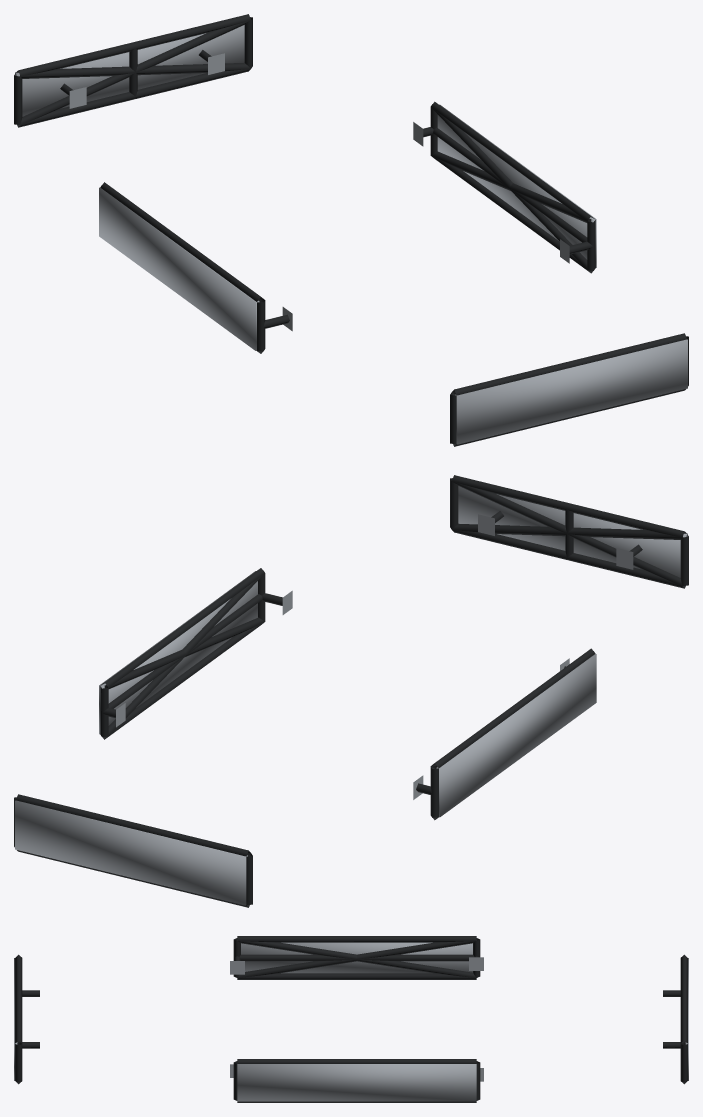
The model's file is hayase_granito_protecao.glb.
The picture shows the model from 3 angles, top to bottom: view 1: azimuth 30°, elevation 25°; view 2: azimuth 150°, elevation 25°; view 3: azimuth 270°, elevation 25°; orthographic projection. The views are drawn at different scales.
Visible parts, largest first — view 1: Protection_front_Level3_Details, Protection_left_Level3_Details, Protection_rear_Level1_Details, Protection_rear_Level3_Details, Protection_right_Level1_Details, Protection_rear_Level2_Details, Protection_right_Level2_Details, Protection_right_Level3_Details, Protection_front_Level1_Details, Protection_left_Level1_Details; view 2: Protection_rear_Level3_Details, Protection_left_Level3_Details, Protection_front_Level1_Details, Protection_front_Level3_Details, Protection_right_Level1_Details, Protection_front_Level2_Details, Protection_right_Level2_Details, Protection_right_Level3_Details, Protection_rear_Level1_Details, Protection_left_Level1_Details; view 3: Protection_right_Level3_Details, Protection_left_Level2_Details, Protection_left_Level3_Details, Protection_left_Level1_Details, Protection_right_Level1_Details, Protection_rear_Level1_Details, Protection_front_Level1_Details.
Boxes of the visible parts, x1,y1,x2,y2 form: Protection_front_Level3_Details: (455, 339, 687, 444); Protection_left_Level3_Details: (99, 187, 259, 350); Protection_rear_Level1_Details: (14, 14, 252, 127); Protection_rear_Level3_Details: (15, 25, 244, 116); Protection_right_Level1_Details: (413, 101, 595, 273); Protection_rear_Level2_Details: (16, 20, 250, 126); Protection_right_Level2_Details: (431, 107, 594, 272); Protection_right_Level3_Details: (437, 104, 596, 267); Protection_front_Level1_Details: (450, 333, 688, 446); Protection_left_Level1_Details: (100, 182, 292, 353); Protection_rear_Level3_Details: (15, 800, 247, 905); Protection_left_Level3_Details: (436, 653, 596, 817); Protection_front_Level1_Details: (450, 475, 688, 588); Protection_front_Level3_Details: (458, 486, 687, 577); Protection_right_Level1_Details: (100, 568, 292, 739); Protection_front_Level2_Details: (452, 481, 686, 587); Protection_right_Level2_Details: (101, 574, 264, 739); Protection_right_Level3_Details: (99, 571, 257, 734); Protection_rear_Level1_Details: (14, 794, 252, 907); Protection_left_Level1_Details: (413, 648, 595, 820); Protection_right_Level3_Details: (237, 1064, 476, 1101); Protection_left_Level2_Details: (237, 940, 476, 977); Protection_left_Level3_Details: (241, 942, 472, 973); Protection_left_Level1_Details: (230, 936, 483, 979); Protection_right_Level1_Details: (230, 1059, 483, 1102); Protection_rear_Level1_Details: (663, 954, 687, 1084); Protection_front_Level1_Details: (15, 954, 39, 1084).
Size of the model in its own units: 2.2 by 0.354 by 4.94.
1 material, 1 textured.
